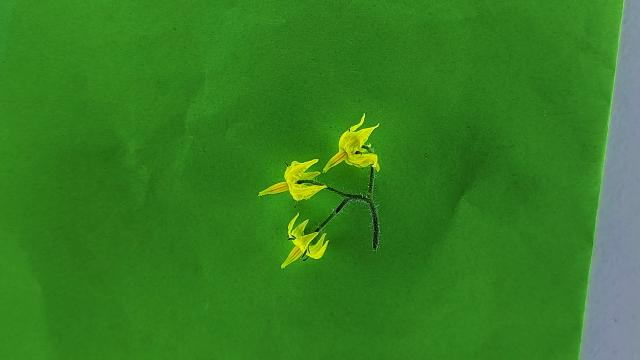Anthesis: (321, 113, 382, 176), (258, 157, 328, 204), (280, 213, 329, 269)
